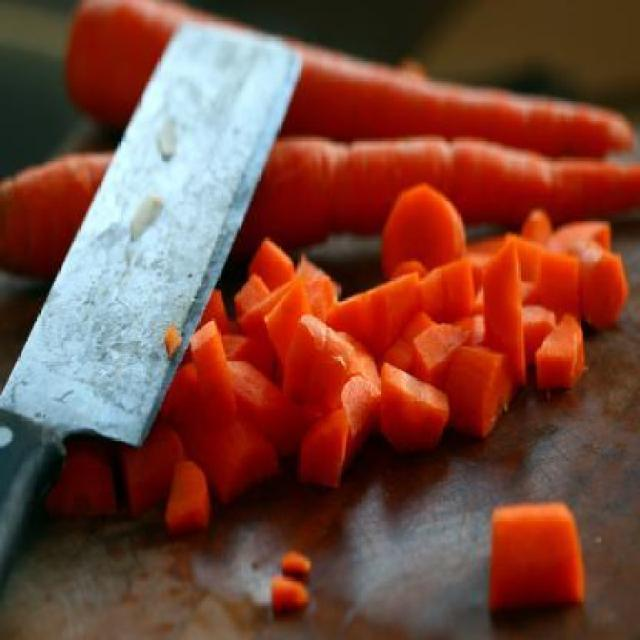Carrot: (49, 183, 628, 500), (62, 0, 633, 138), (0, 134, 635, 245), (490, 496, 584, 610), (262, 276, 315, 372)
